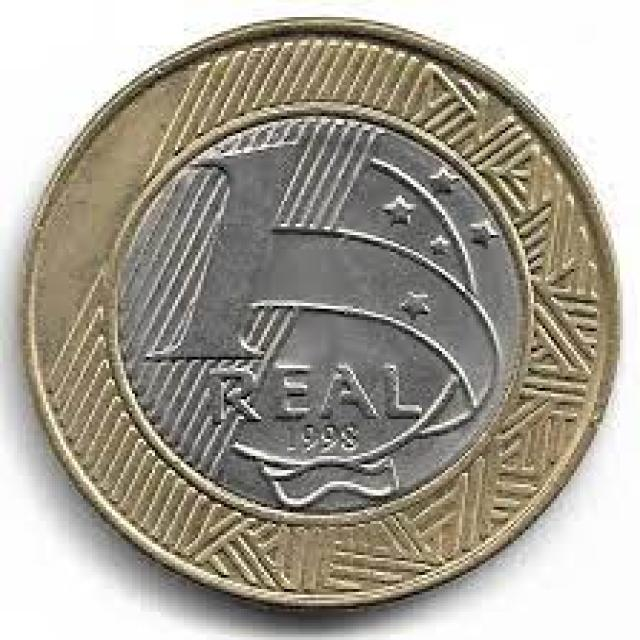1 real: (30, 16, 616, 603)
